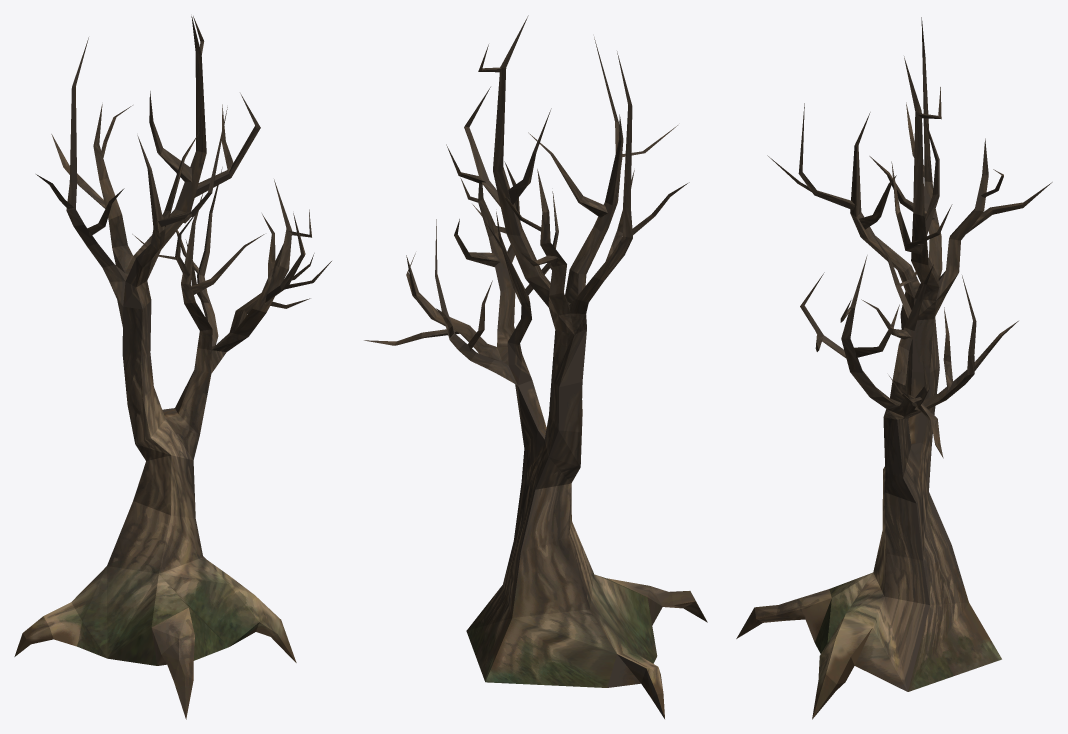
The model's file is plants_tall_tree_trunks208.fbx.
The picture shows the model from 3 angles, left to right: view 1: azimuth 30°, elevation 25°; view 2: azimuth 150°, elevation 25°; view 3: azimuth 270°, elevation 25°; orthographic projection. The views are drawn at different scales.
Parts seen in each view (by area): view 1: obj0.159; view 2: obj0.159; view 3: obj0.159.
Part boxes in pixels (left/top/right/bottom): obj0.159: left=14, top=16, right=331, bottom=719; obj0.159: left=364, top=15, right=707, bottom=718; obj0.159: left=736, top=17, right=1052, bottom=719.
Bounding box in the file's own units: 4.59 × 9.36 × 4.24.
